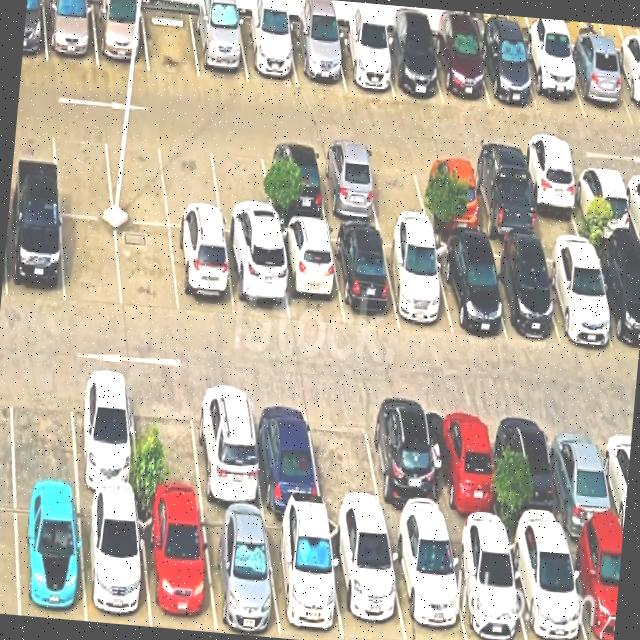empty: (307, 397, 383, 521), (130, 378, 202, 505), (10, 369, 77, 491), (104, 128, 168, 225), (210, 138, 274, 235), (160, 134, 222, 229), (116, 221, 178, 315), (52, 123, 112, 218), (61, 216, 121, 307), (364, 150, 428, 227), (142, 6, 199, 77)
occupied: (200, 507, 280, 637), (363, 402, 445, 526), (138, 502, 215, 631), (264, 513, 342, 640), (426, 405, 502, 531), (327, 518, 405, 640), (79, 495, 150, 626), (546, 414, 620, 537), (191, 384, 263, 510), (387, 526, 466, 640), (249, 390, 322, 513), (447, 527, 526, 640), (15, 492, 84, 621), (70, 372, 138, 499), (496, 409, 565, 534), (506, 532, 585, 640), (539, 242, 614, 345), (432, 239, 506, 339), (381, 232, 452, 334), (483, 242, 558, 338), (329, 227, 399, 326), (276, 224, 343, 325), (565, 535, 622, 640), (169, 227, 235, 317), (223, 233, 289, 322), (6, 205, 63, 303), (468, 158, 536, 240), (563, 46, 632, 122), (592, 245, 640, 354), (416, 154, 482, 233), (261, 143, 327, 222), (315, 146, 379, 224), (520, 43, 585, 118), (524, 161, 587, 238), (573, 164, 634, 242), (477, 36, 538, 113), (431, 33, 490, 108), (237, 16, 298, 87), (381, 33, 442, 103), (190, 11, 248, 83), (333, 29, 394, 97), (92, 2, 148, 70), (289, 25, 345, 90), (43, 0, 97, 66), (611, 52, 640, 123)
